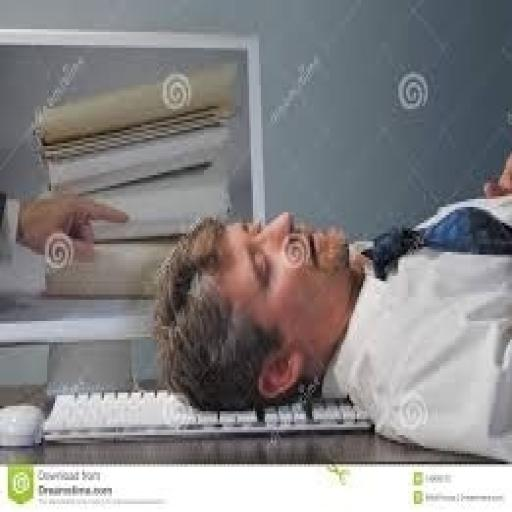sleeping: (149, 144, 510, 464)
